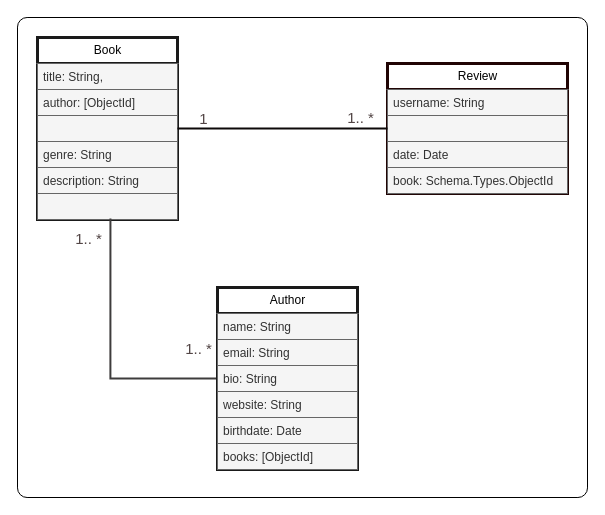
Image size: 605x515. Some labels were removed from this diagram. The shapes that lost their labels are listed below. From the top down, each one's centre as x and y in pixels, then its label:
At (107,128): "publish_date: Date".
At (477,128): "text: String".
At (107,206): "price: Number".
